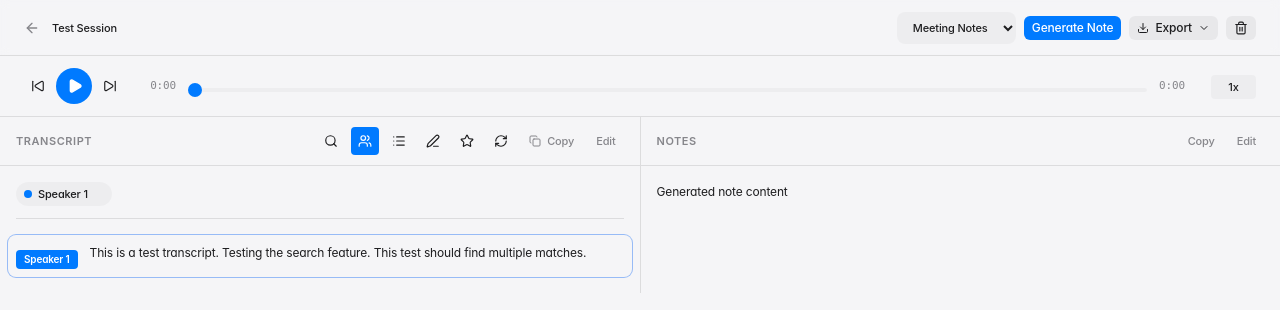
SessionDetail › Search Functionality › should close search with Escape key
Open search
Click the button named "Search (Cmd+F)" at coordinates (331, 141), box [317,127,345,155]
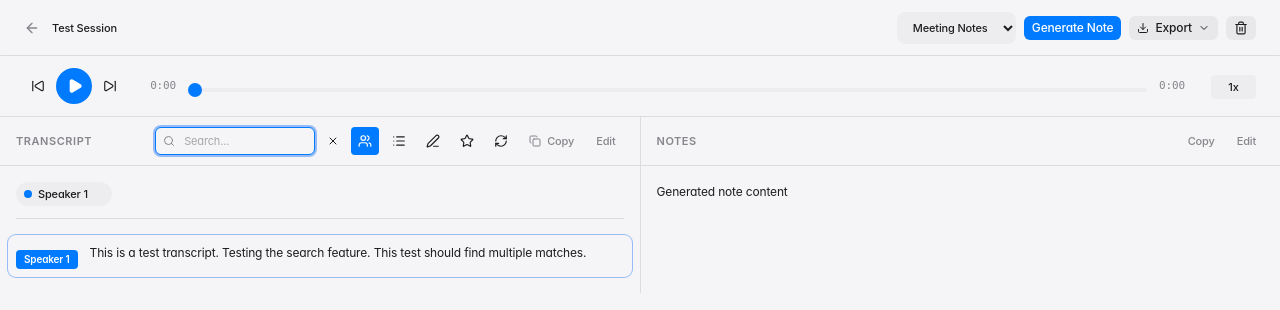
Check: the field with placeholder "Search..." is shown, box [155,127,315,155]
Close with Escape
Press Escape
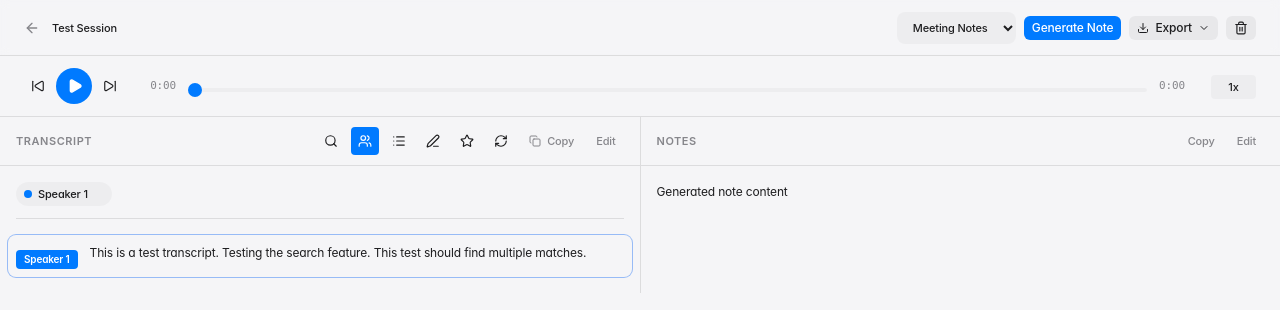
Check: the field with placeholder "Search..." is gone
